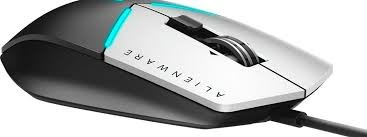mouse: (0, 0, 336, 130)
